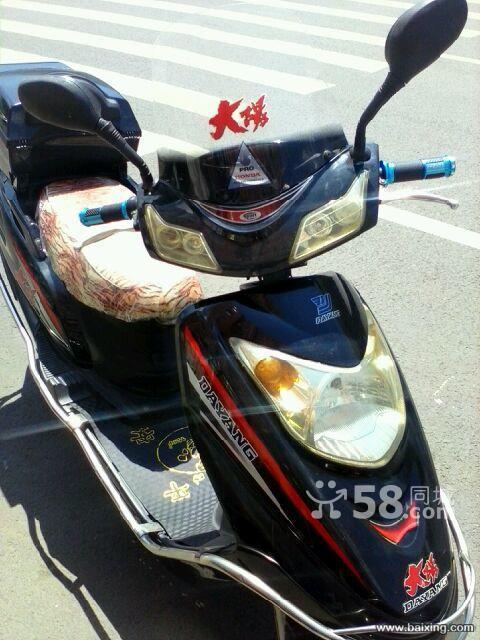电动车: (1, 2, 476, 635)
